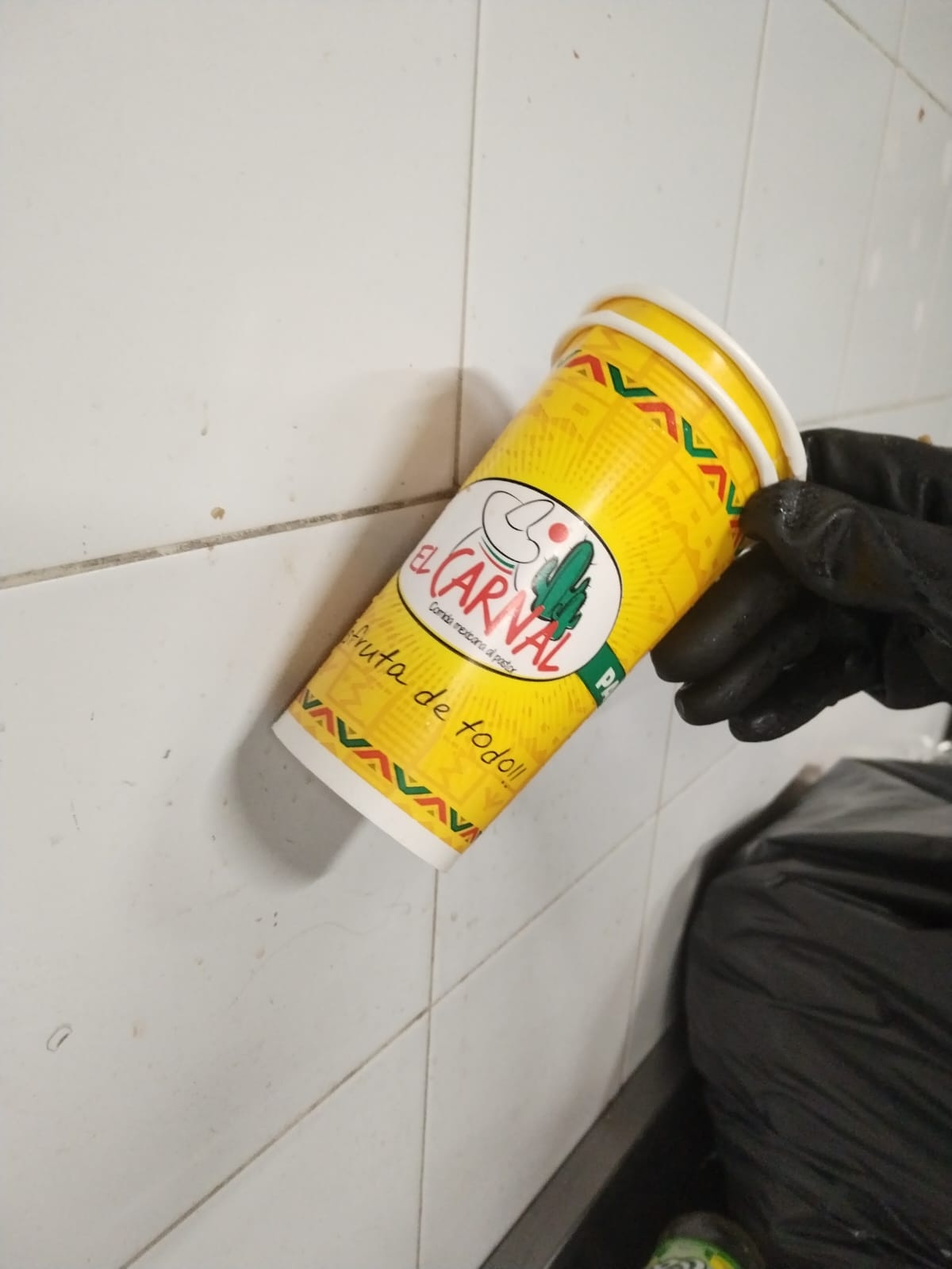Carton: (269, 287, 807, 865)
